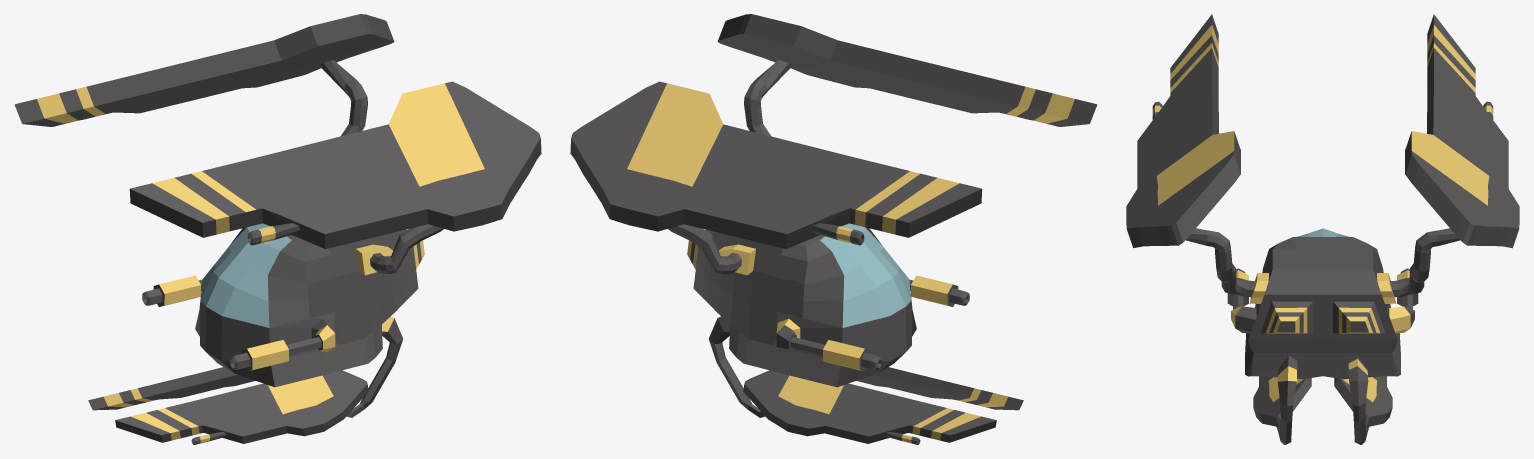
File: CargoQueen.fbx
3 views of the same model, side by side, from view 1: azimuth 30°, elevation 25°; view 2: azimuth 150°, elevation 25°; view 3: azimuth 270°, elevation 25° (orthographic). The views are drawn at different scales.
Visible parts, largest first — view 1: Plane; view 2: Plane; view 3: Plane.
Part boxes in pixels (x1,y1,x2,y2): Plane: [14, 14, 541, 444]; Plane: [570, 14, 1097, 444]; Plane: [1126, 14, 1519, 444].
Size of the model in its own units: 3.16 by 2.56 by 2.83.
